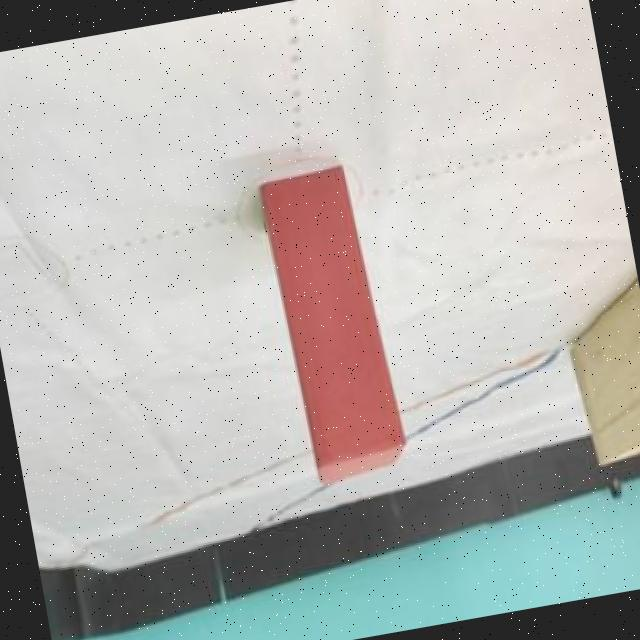redbox: (260, 159, 410, 482)
